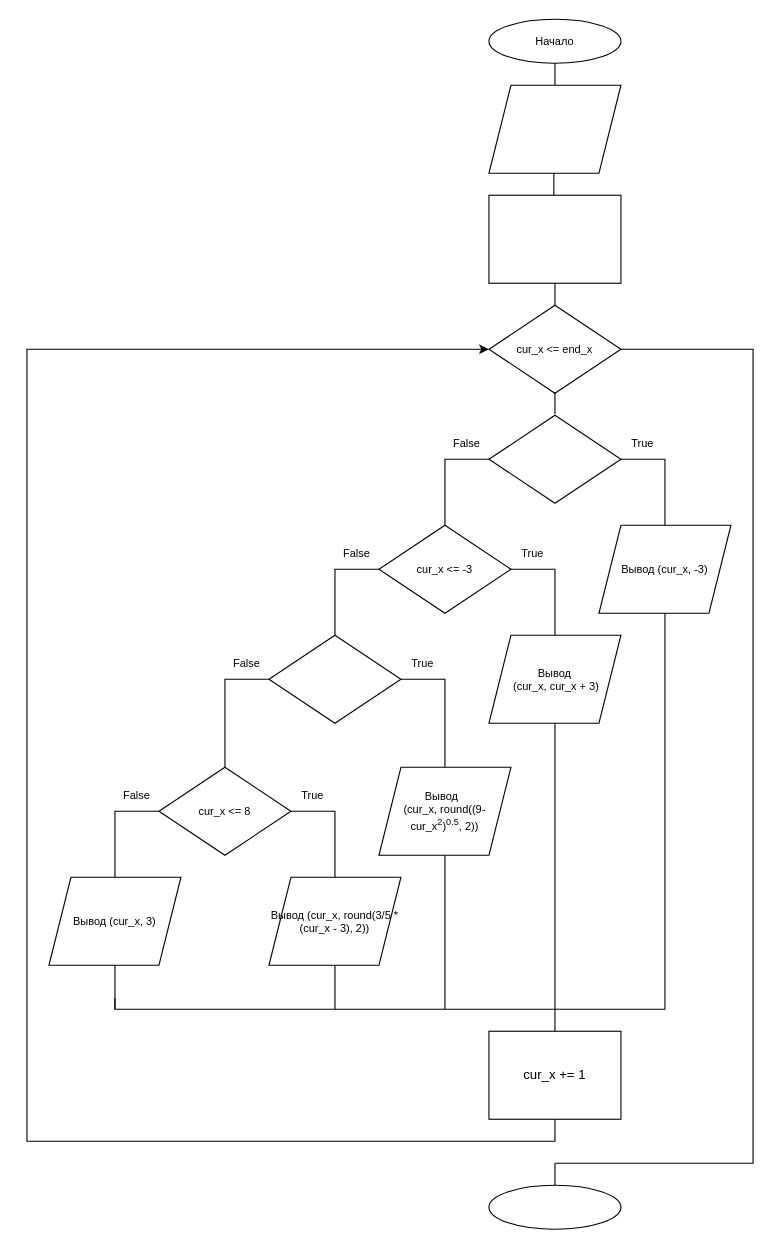
Image size: 774x1249. Some labels were removed from this diagram. The shapes that lost their labels are listed below. From the top down, each one's centre as x and y in pixels, then its label:
At pixel 554 128: "Вывод 'X | Y'".
At pixel 554 238: "cur_x = -8 end_x = 10".
At pixel 554 458: "cur_x <= -5".
At pixel 334 678: "cur_x <= 3".
At pixel 554 1206: "Конец".
